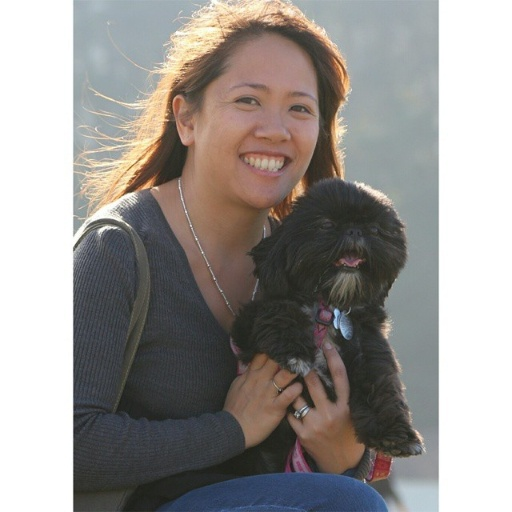hand: (286, 340, 368, 473), (222, 359, 304, 453)
